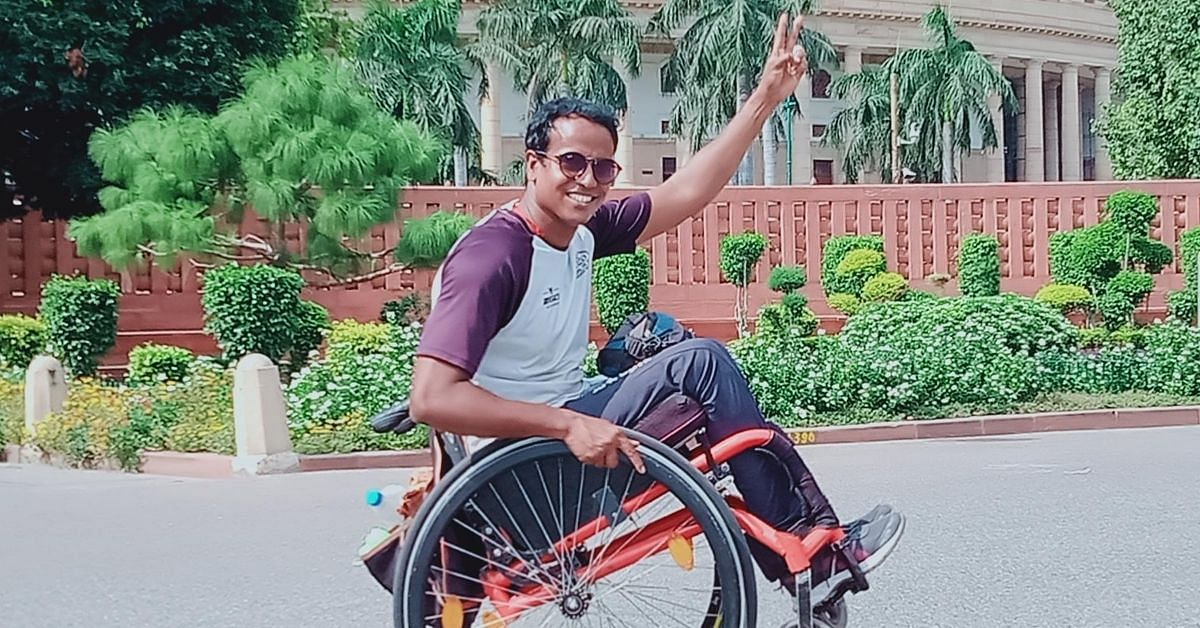wheelchair: (353, 6, 907, 628)
